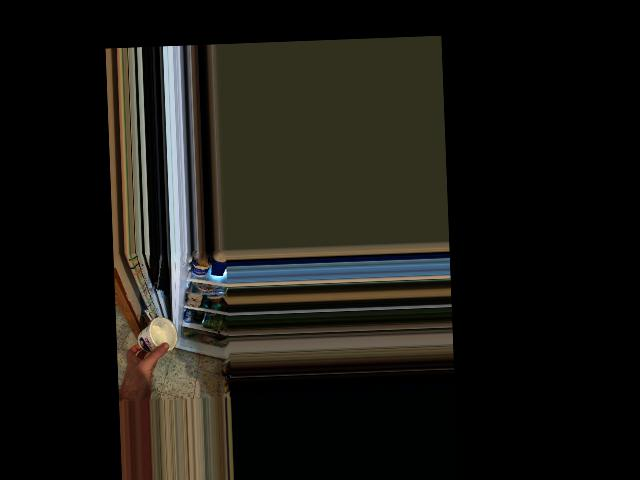cotage: (135, 316, 178, 356)
